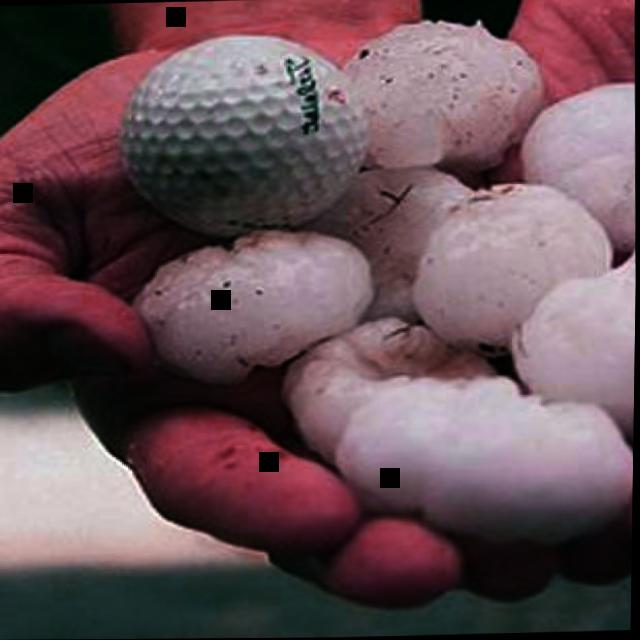golf ball: (107, 27, 374, 238)
